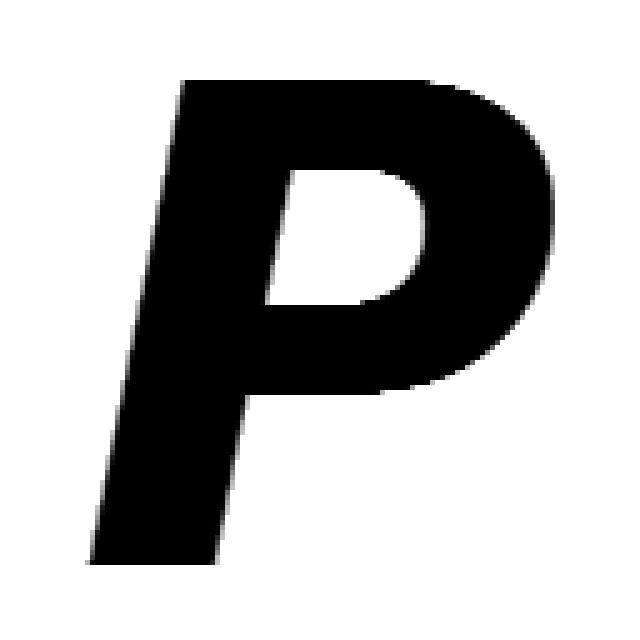P: (90, 80, 555, 570)
